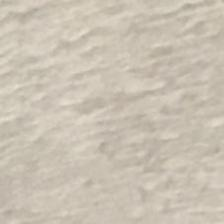Non_Crack: (20, 39, 211, 194)
